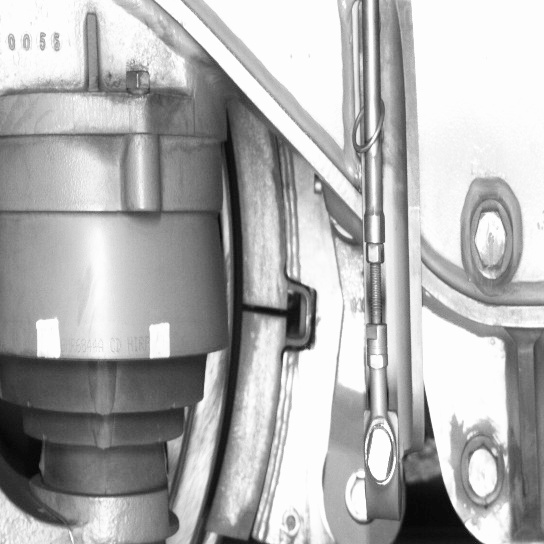KnifeSwitch: (184, 132, 284, 541)
